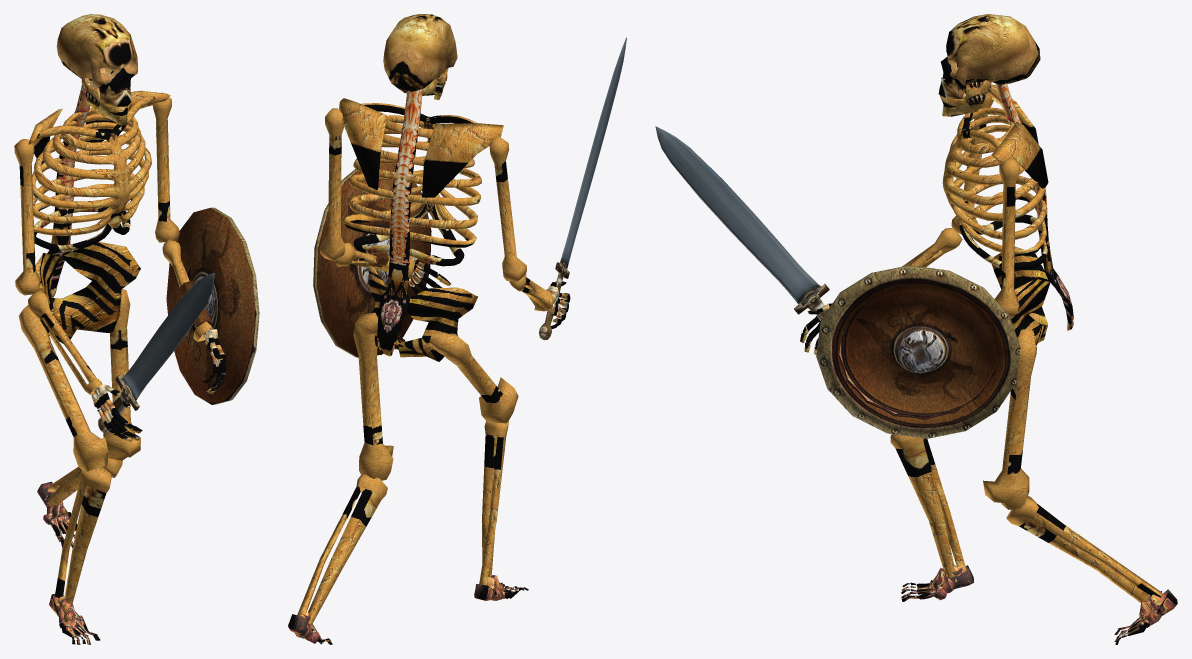
File: Skeleton_000024.obj
The picture shows the model from 3 angles, left to right: view 1: azimuth 30°, elevation 25°; view 2: azimuth 150°, elevation 25°; view 3: azimuth 270°, elevation 25°; orthographic projection. The views are drawn at different scales.
Visible parts, largest first — view 1: Costillar, Shield_Shield.001, Coxis, Femur, Skull, Humero, Tibia, Sword, Radio, Hands, Feet, Omoplato (+1 smaller); view 2: Costillar, Shield_Shield.001, Femur, Tibia, Omoplato, Skull, Humero, Coxis, Sword, Radio, Feet, Hands; view 3: Shield_Shield.001, Costillar, Tibia, Sword, Skull, Femur, Humero, Feet, Coxis, Omoplato, Mandibula, Radio.
Part boxes in pixels (left/top/right/bottom): Costillar: left=32, top=80, right=155, bottom=297; Shield_Shield.001: left=166, top=207, right=259, bottom=404; Coxis: left=35, top=242, right=140, bottom=343; Femur: left=18, top=289, right=140, bottom=472; Skull: left=56, top=14, right=137, bottom=106; Humero: left=14, top=92, right=179, bottom=295; Tibia: left=47, top=458, right=122, bottom=602; Sword: left=98, top=273, right=214, bottom=433; Radio: left=28, top=239, right=212, bottom=394; Hands: left=91, top=329, right=226, bottom=441; Feet: left=37, top=481, right=100, bottom=644; Omoplato: left=28, top=90, right=170, bottom=164; Costillar: left=344, top=89, right=481, bottom=356; Shield_Shield.001: left=313, top=163, right=431, bottom=357; Femur: left=353, top=312, right=518, bottom=480; Tibia: left=297, top=421, right=508, bottom=626; Omoplato: left=339, top=98, right=503, bottom=197; Skull: left=383, top=14, right=457, bottom=93; Humero: left=319, top=108, right=526, bottom=281; Coxis: left=368, top=266, right=477, bottom=361; Sword: left=539, top=37, right=626, bottom=340; Radio: left=335, top=243, right=553, bottom=311; Feet: left=288, top=575, right=528, bottom=644; Hands: left=407, top=253, right=570, bottom=328; Shield_Shield.001: left=816, top=265, right=1020, bottom=438; Costillar: left=942, top=83, right=1073, bottom=330; Tibia: left=890, top=434, right=1162, bottom=602; Sword: left=655, top=126, right=829, bottom=320; Skull: left=938, top=14, right=1040, bottom=98; Femur: left=983, top=328, right=1036, bottom=509; Humero: left=951, top=95, right=1019, bottom=318; Feet: left=901, top=564, right=1177, bottom=644; Coxis: left=991, top=246, right=1050, bottom=345; Omoplato: left=979, top=82, right=1048, bottom=188; Mandibula: left=940, top=80, right=991, bottom=116; Radio: left=902, top=228, right=962, bottom=267.
Bounding box in the file's own units: 2.83 × 8.4 × 6.55.
Materials: 5 (5 with a texture image).
